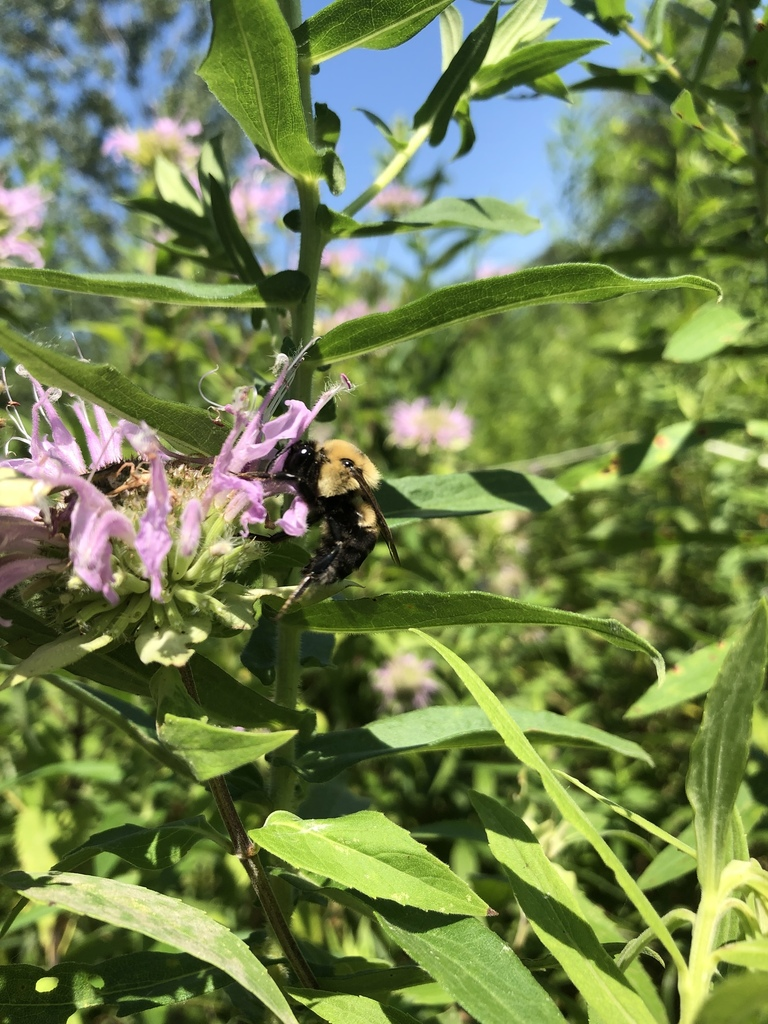bumblebee: (241, 436, 401, 623)
